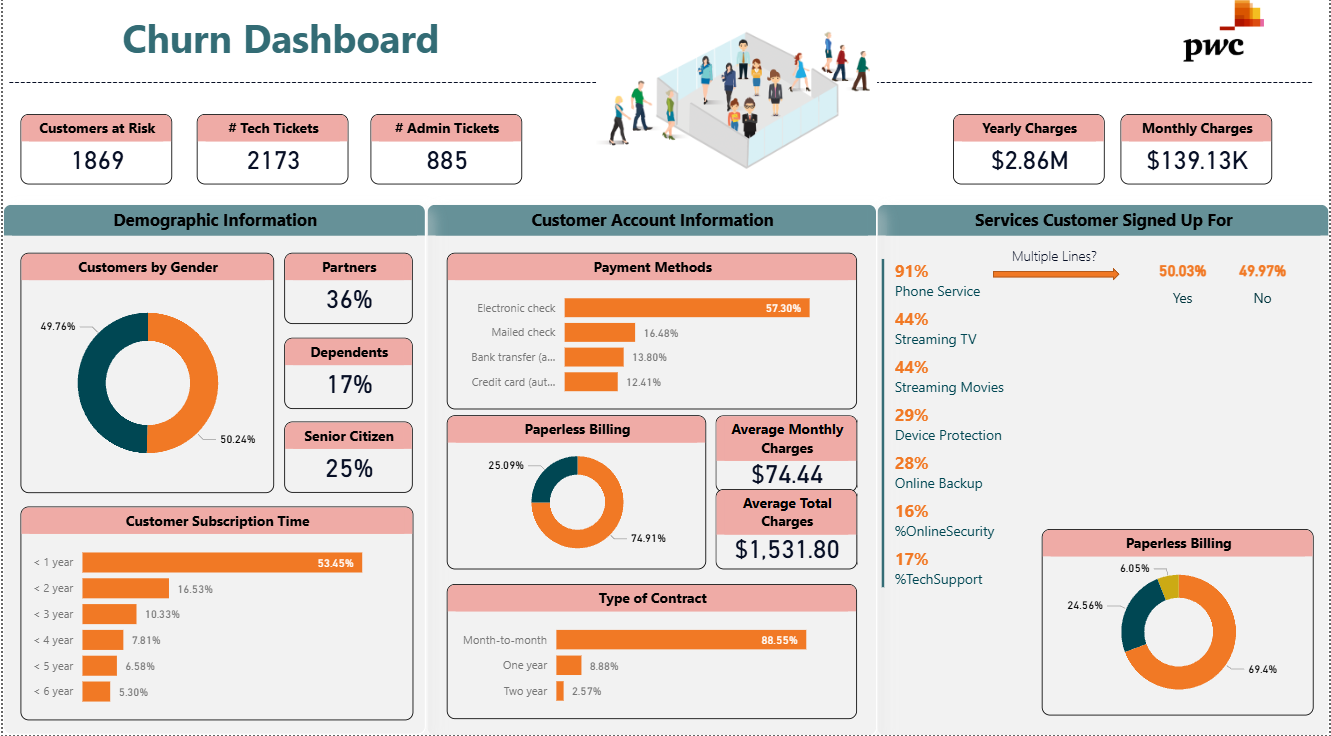

What the dashboard file says about the page in this screenshot:
{"tool":"powerbi","page":{"name":"Churn","canvas":[1280,720],"ordinal":0},"visuals":[{"type":"textbox","title":"Services Customer Signed Up For","box":[843.3,207.5,436.7,513.4],"z":0},{"type":"textbox","title":"Customer Account Information","box":[409.1,207.5,434.3,513.4],"z":1000},{"type":"textbox","title":"Demographic Information","box":[0,207.4,407.9,512.3],"z":2000},{"type":"donutChart","title":"Customers by Gender","fields":{"Category":["01 Churn-Dataset.gender"],"Y":["CountNonNull(01 Churn-Dataset.customerID)"]},"box":[16.5,254.1,244.5,232.1],"z":3000},{"type":"card","title":"Partners","fields":{"Values":["01 Churn-Dataset.Total Partners"]},"box":[271.9,254.1,123.6,68.7],"z":4000},{"type":"card","title":"Dependents","fields":{"Values":["01 Churn-Dataset.Total Dependents"]},"box":[271.9,336.5,123.6,68.7],"z":5000},{"type":"card","title":"Senior Citizen","fields":{"Values":["01 Churn-Dataset.%SeniorCitizen"]},"box":[271.9,417.5,123.6,68.7],"z":6000},{"type":"barChart","title":"Customer Subscription Time ","fields":{"Category":["01 Churn-Dataset.Loyalty"],"Y":["CountNonNull(01 Churn-Dataset.customerID)"]},"box":[16.5,499.9,379.1,206],"z":7000},{"type":"barChart","title":"Payment Methods","fields":{"Category":["01 Churn-Dataset.PaymentMethod"],"Y":["CountNonNull(01 Churn-Dataset.customerID)"]},"box":[428.3,254.3,395.9,151.2],"z":8000},{"type":"donutChart","title":"Paperless Billing","fields":{"Category":["01 Churn-Dataset.PaperlessBilling"],"Y":["CountNonNull(01 Churn-Dataset.customerID)"]},"box":[428.3,411.5,250.7,148.8],"z":9000},{"type":"card","title":"Average Monthly Charges","fields":{"Values":["Avg(01 Churn-Dataset.MonthlyCharges)"]},"box":[687.4,411.5,136.8,74.4],"z":10000},{"type":"card","title":"Average Total Charges","fields":{"Values":["Avg(01 Churn-Dataset.TotalCharges)"]},"box":[687.4,482.2,136.8,78],"z":11000},{"type":"barChart","title":"Type of Contract","fields":{"Category":["01 Churn-Dataset.Contract"],"Y":["CountNonNull(01 Churn-Dataset.customerID)"]},"box":[428.3,574.6,395.9,130.8],"z":12000},{"type":"multiRowCard","fields":{"Values":["01 Churn-Dataset.%PhoneService","01 Churn-Dataset.%StreamingTV","01 Churn-Dataset.%StreamingMovies","01 Churn-Dataset.%DeviceProtection","01 Churn-Dataset.%OnlineBackup","01 Churn-Dataset.%OnlineSecurity","01 Churn-Dataset.%TechSupport"]},"box":[843.3,255.5,145.2,332.3],"z":13000},{"type":"card","fields":{"Values":["01 Churn-Dataset.%MultipleLines"]},"box":[1088.1,255.5,100.8,52.8],"z":14000},{"type":"card","fields":{"Values":["01 Churn-Dataset.%MultipleLinesNo"]},"box":[1164.8,255.5,100.8,52.8],"z":15000},{"type":"shape","box":[955.9,269.2,122.2,12.4],"z":16000},{"type":"textbox","box":[968.2,243.1,119.5,38.5],"z":17000},{"type":"donutChart","title":"Paperless Billing","fields":{"Y":["CountNonNull(01 Churn-Dataset.customerID)"],"Category":["01 Churn-Dataset.InternetService"]},"box":[1002.9,520.6,262.7,179.9],"z":18000},{"type":"card","title":"Customers at Risk","fields":{"Values":["CountNonNull(01 Churn-Dataset.customerID)"]},"box":[16.8,121.2,146.4,68.4],"z":19000},{"type":"card","title":"# Tech Tickets","fields":{"Values":["Sum(01 Churn-Dataset.numTechTickets)"]},"box":[187.1,121.2,146.4,68.4],"z":20000},{"type":"card","title":"# Admin Tickets","fields":{"Values":["Sum(01 Churn-Dataset.numAdminTickets)"]},"box":[355.1,121.2,146.4,68.4],"z":21000},{"type":"card","title":"Yearly Charges","fields":{"Values":["Sum(01 Churn-Dataset.TotalCharges)"]},"box":[916.5,121.2,146.4,68.4],"z":22000},{"type":"card","title":"Monthly Charges","fields":{"Values":["Sum(01 Churn-Dataset.MonthlyCharges)"]},"box":[1078.5,121.2,146.4,68.4],"z":23000},{"type":"textbox","box":[0,74.5,1280,33.7],"z":24000},{"type":"image","box":[527.8,16.8,359.9,181.1],"z":25000},{"type":"textbox","box":[16.8,16.8,502.6,66],"z":26000},{"type":"image","box":[1088,5.8,180.4,68.7],"z":27000}]}

Visuals, with their boxes in screenshot pixels (x1, y1, x2, y2), scaled from the page's 1280x720 canvas onto the 1331x736 screenshot:
"Services Customer Signed Up For" textbox: box(877, 212, 1330, 735)
"Customer Account Information" textbox: box(425, 212, 877, 735)
"Demographic Information" textbox: box(0, 212, 424, 735)
"Customers by Gender" donutChart: box(17, 260, 271, 497)
"Partners" card: box(283, 260, 411, 330)
"Dependents" card: box(283, 344, 411, 414)
"Senior Citizen" card: box(283, 427, 411, 497)
"Customer Subscription Time " barChart: box(17, 511, 411, 722)
"Payment Methods" barChart: box(445, 260, 857, 415)
"Paperless Billing" donutChart: box(445, 421, 706, 573)
"Average Monthly Charges" card: box(715, 421, 857, 497)
"Average Total Charges" card: box(715, 493, 857, 573)
"Type of Contract" barChart: box(445, 587, 857, 721)
multiRowCard - 01 Churn-Dataset.%PhoneService x 01 Churn-Dataset.%StreamingTV: box(877, 261, 1028, 601)
card - 01 Churn-Dataset.%MultipleLines: box(1131, 261, 1236, 315)
card - 01 Churn-Dataset.%MultipleLinesNo: box(1211, 261, 1316, 315)
shape: box(994, 275, 1121, 288)
textbox: box(1007, 249, 1131, 288)
"Paperless Billing" donutChart: box(1043, 532, 1316, 716)
"Customers at Risk" card: box(17, 124, 170, 194)
"# Tech Tickets" card: box(195, 124, 347, 194)
"# Admin Tickets" card: box(369, 124, 521, 194)
"Yearly Charges" card: box(953, 124, 1105, 194)
"Monthly Charges" card: box(1121, 124, 1274, 194)
textbox: box(0, 76, 1330, 111)
image: box(549, 17, 923, 202)
textbox: box(17, 17, 540, 85)
image: box(1131, 6, 1319, 76)
